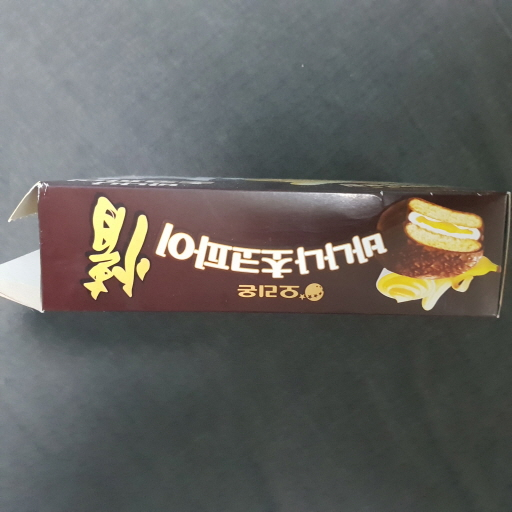Paper_0: (1, 175, 512, 321)
